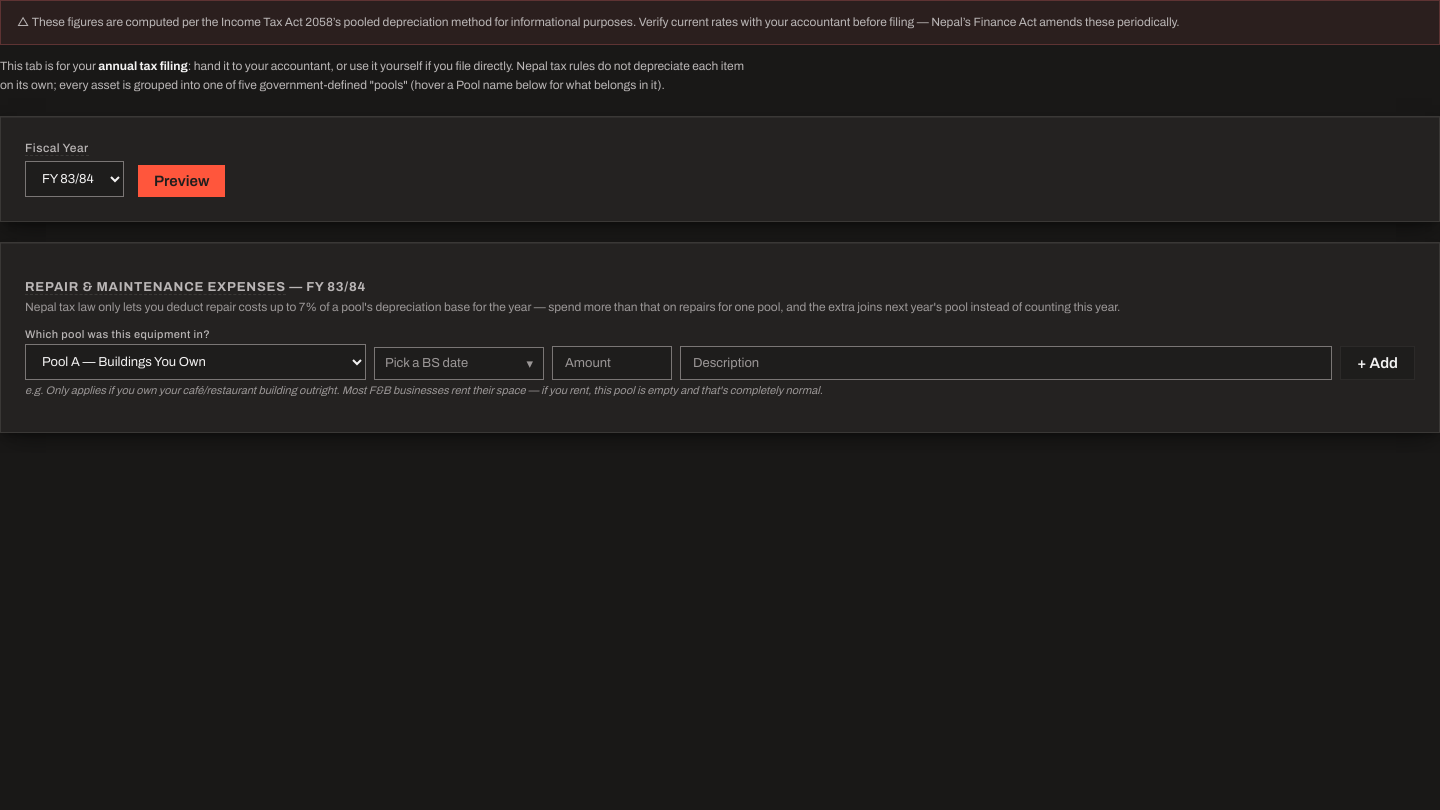
Test: a login with the rank is still asked first, and posts only on confirm
This screenshot has width=1440, height=810.
Step 1. Click the button "Preview" → click(182, 181), box [138, 165, 225, 197]
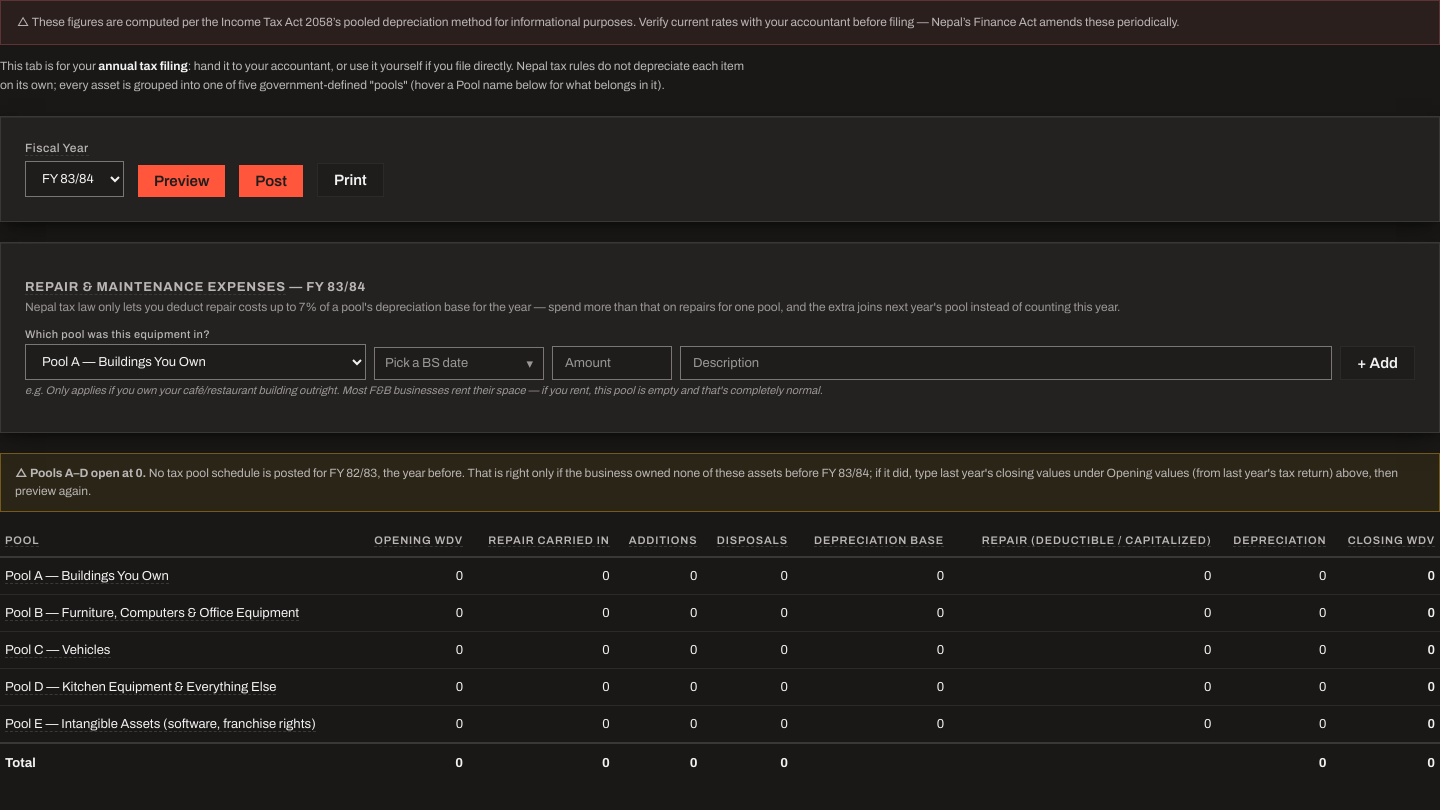
Step 2. Click the button "Post" → click(271, 181), box [239, 165, 303, 197]
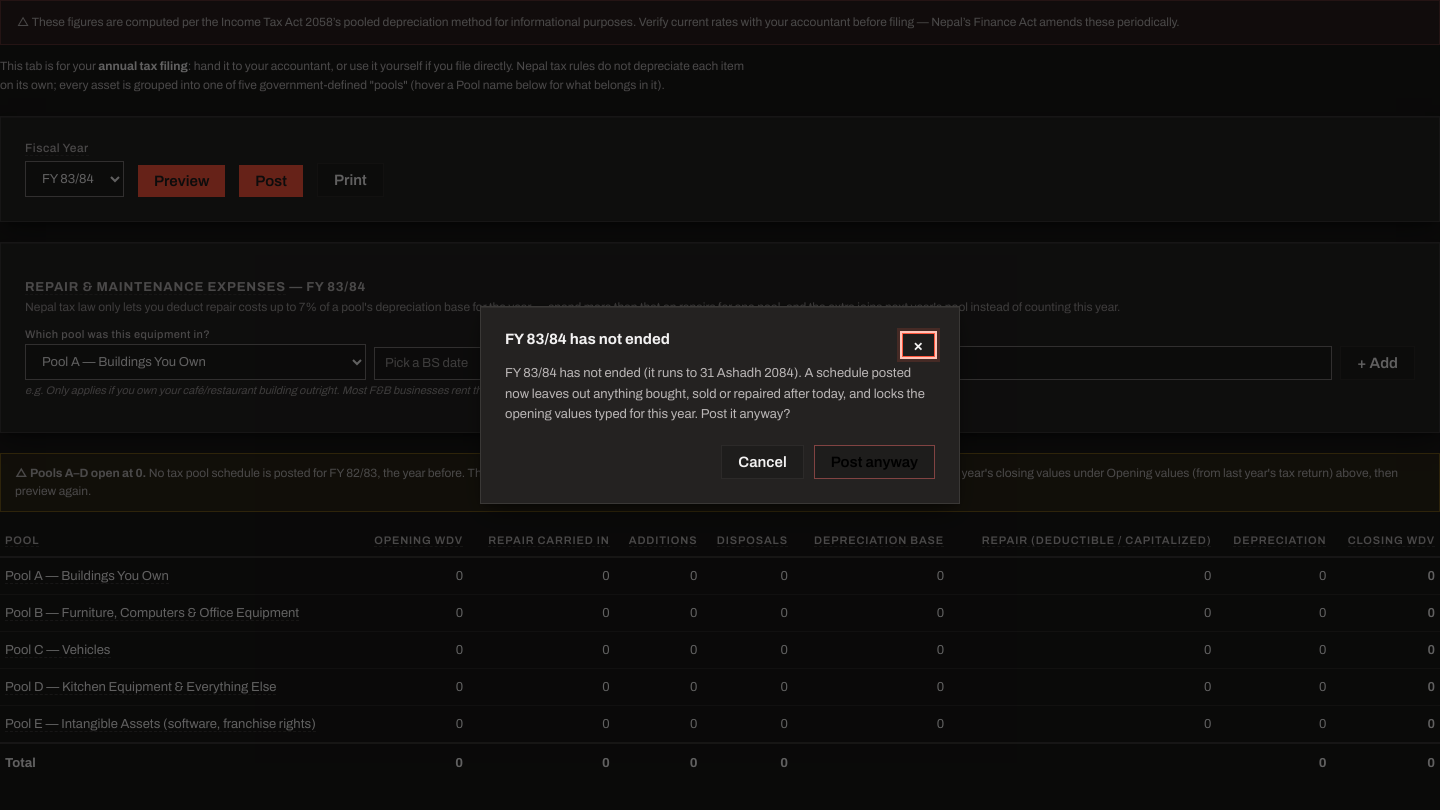
Expected: the dialog shows "has not ended", [505, 331, 670, 347]
Step 3. Click the button "Post anyway" → click(874, 462), box [814, 445, 935, 479]
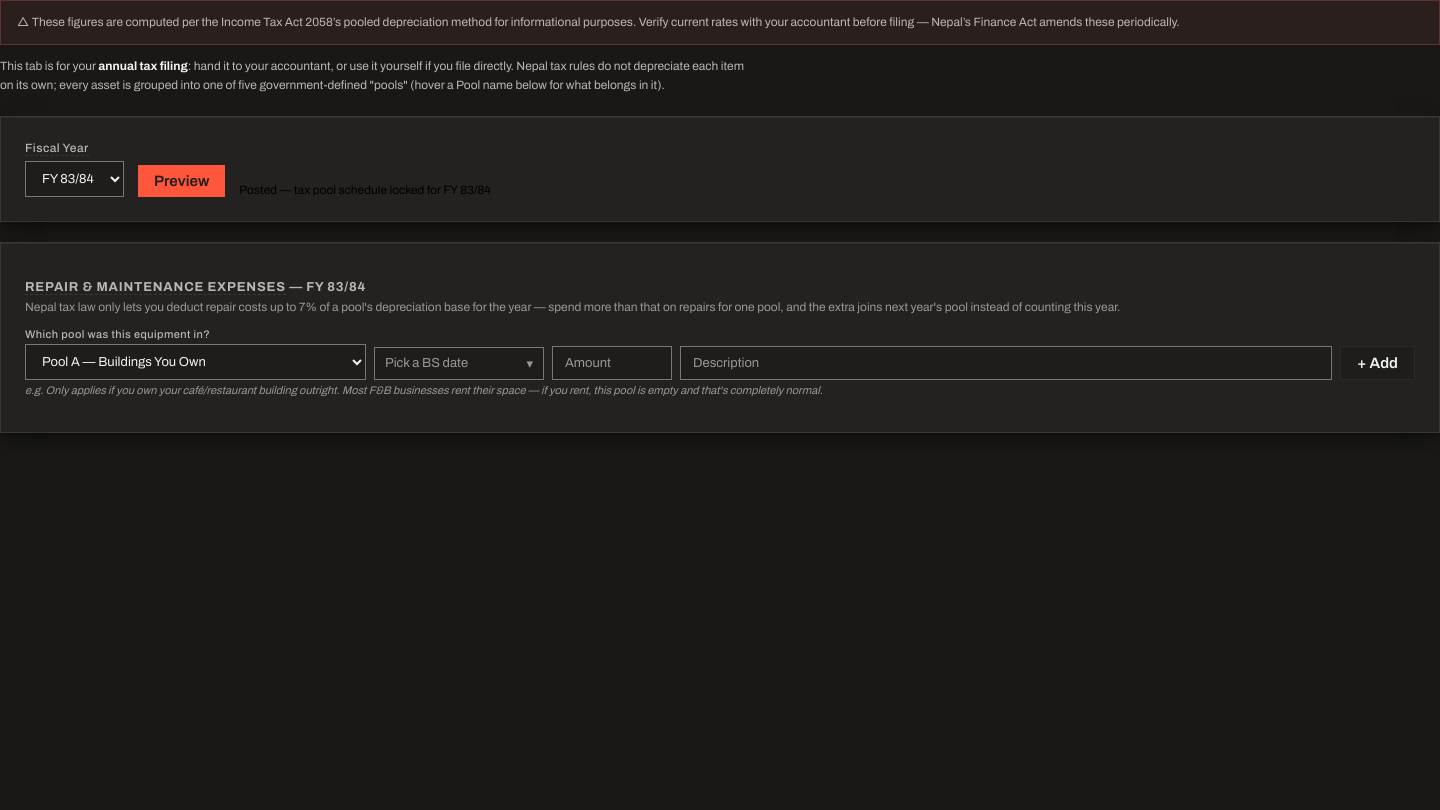
Expected: the text "Posted — tax pool schedule locked for FY 83/84" is shown, [239, 183, 491, 197]
